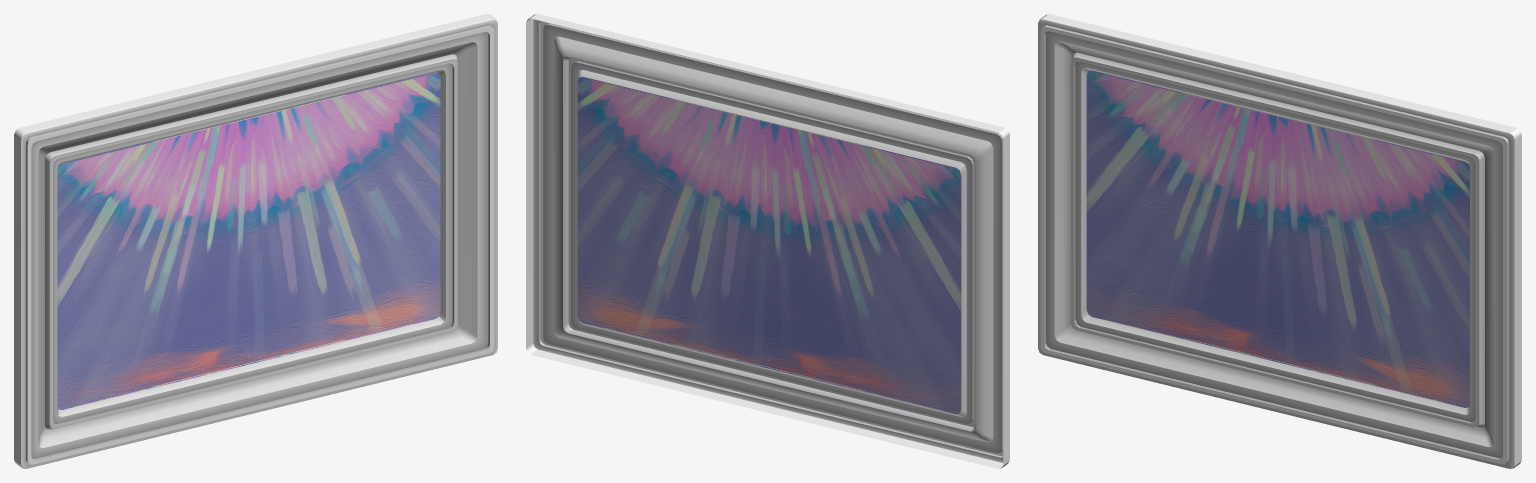
The model's file is painting04.fbx.
3 renders of one model, left to right at view 1: azimuth 30°, elevation 25°; view 2: azimuth 150°, elevation 25°; view 3: azimuth 330°, elevation 25°, orthographic.
Parts seen in each view (by area): view 1: painting04(Clone); view 2: painting04(Clone); view 3: painting04(Clone).
Part boxes in pixels (x1=…): painting04(Clone): x1=14, y1=14, x2=497, y2=468; painting04(Clone): x1=526, y1=14, x2=1009, y2=468; painting04(Clone): x1=1038, y1=14, x2=1521, y2=468.
Size of the model in its own units: 1.06 by 0.7121 by 0.0339.
Materials: 3 (1 with a texture image).
